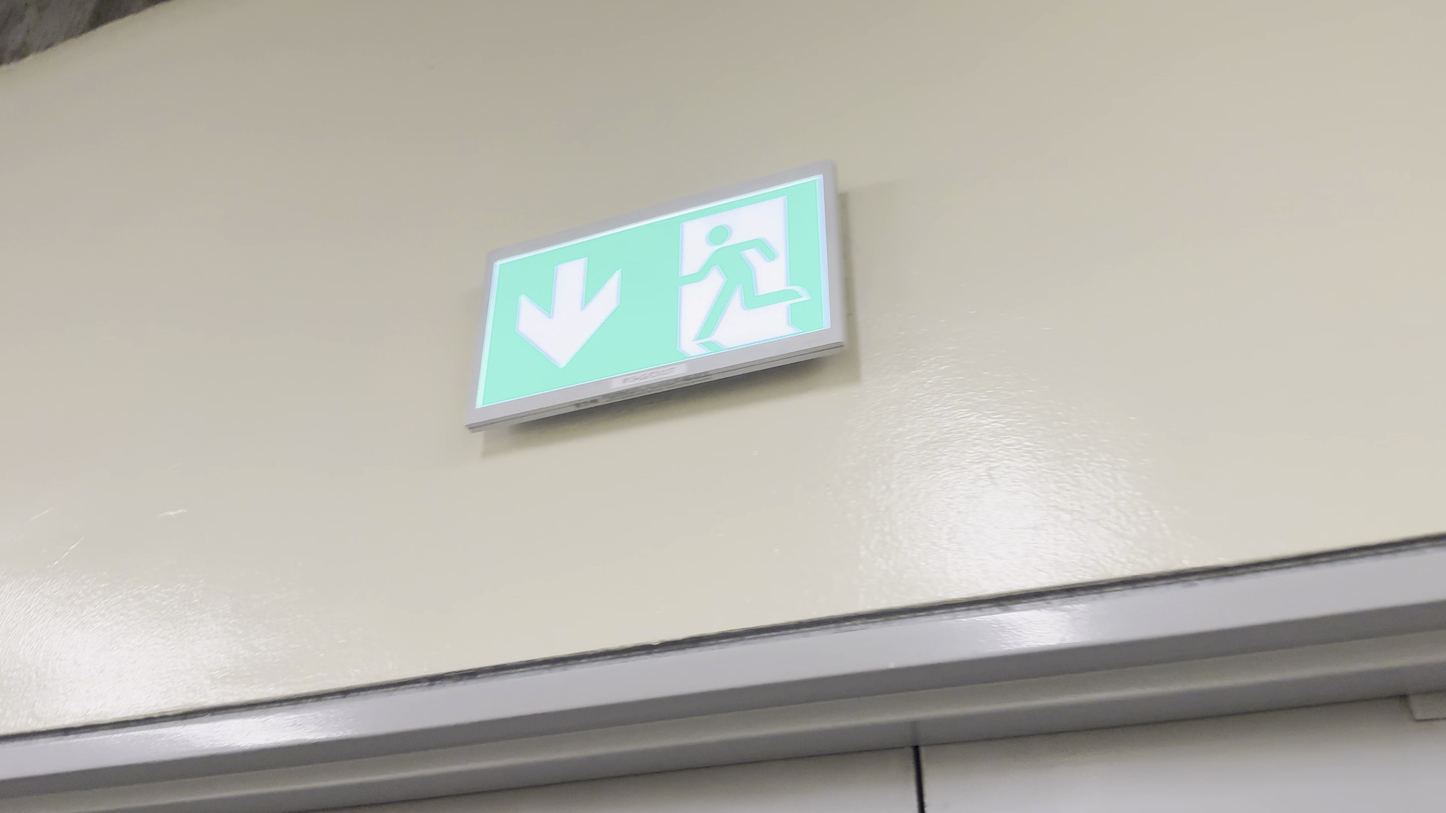emergency_exit: (464, 159, 848, 432)
